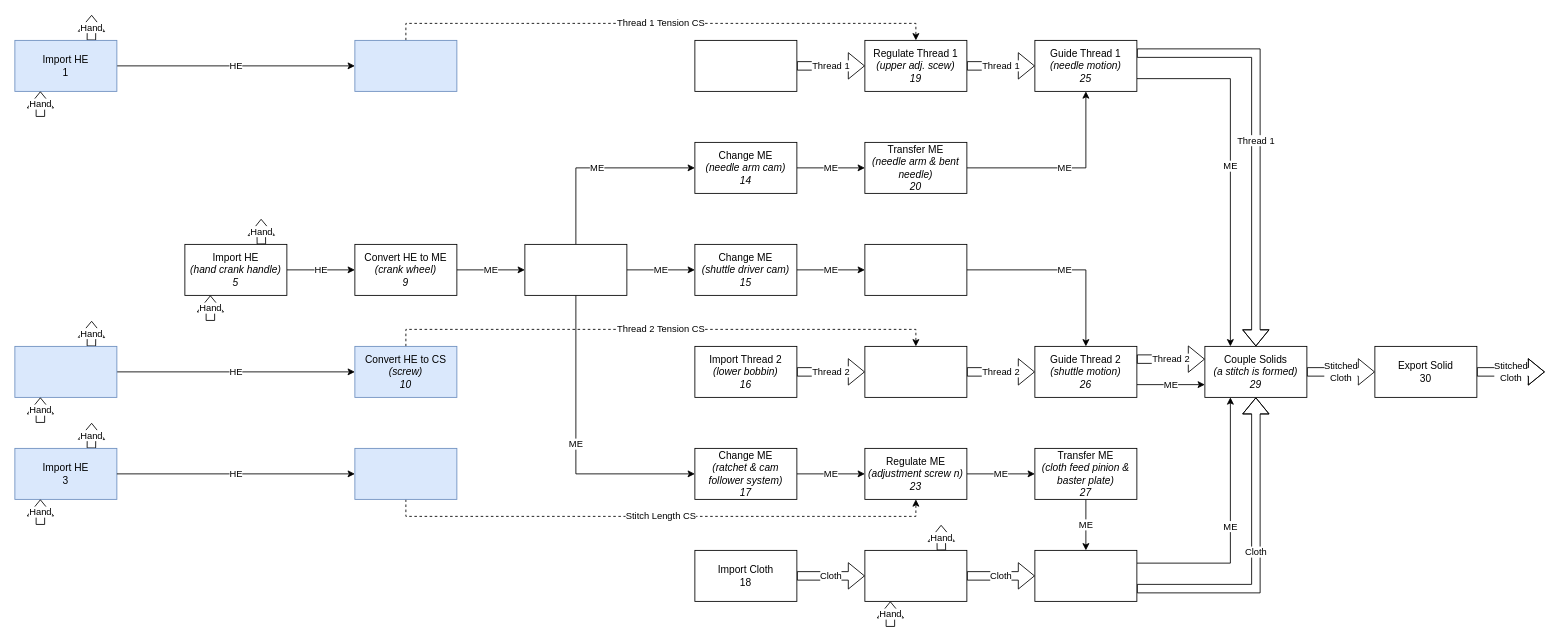
Image size: 1560x641. Some labels were removed from this diagram. The shapes that lost their labels are listed below. From the top down, each one's centre as x and y in pixels, then its label:
point (405, 65): Convert HE to CS (screw) 8
point (745, 65): Import Thread 1 (upper bobbin) 13
point (575, 269): Distribute ME (Main shaft) 12
point (915, 269): Transfer ME (shuttle & drivers) 21
point (65, 371): Import HE 2
point (915, 371): Regulate Thread 2 (adjustment screw o') 22
point (405, 473): Convert HE to CS (screw) 11
point (915, 575): Position Cloth (Baster plate pins) 24
point (1085, 575): Guide Cloth (Baster plate motion) 28
